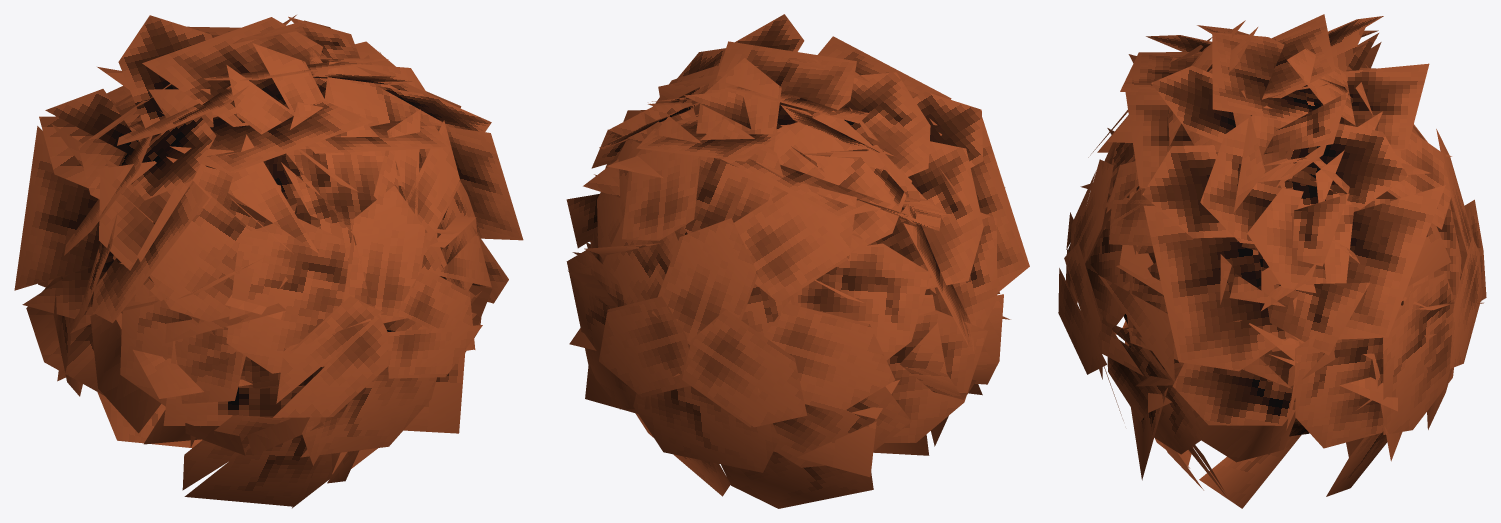
The model's file is bush-holly-autumn.glb.
3 views of the same model, side by side, from view 1: azimuth 30°, elevation 25°; view 2: azimuth 150°, elevation 25°; view 3: azimuth 270°, elevation 25° (orthographic). The views are drawn at different scales.
Parts seen in each view (by area): view 1: bush-holly-autumn; view 2: bush-holly-autumn; view 3: bush-holly-autumn.
Boxes of the visible parts, left/top/right/bottom form: bush-holly-autumn: left=14, top=15, right=523, bottom=508; bush-holly-autumn: left=566, top=14, right=1029, bottom=508; bush-holly-autumn: left=1058, top=14, right=1486, bottom=508.
Bounding box in the file's own units: 1.15 × 1.13 × 0.9922.
Materials: 1 (1 with a texture image).
